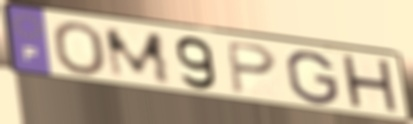9: (174, 37, 218, 92)
G: (283, 49, 342, 107)
H: (339, 52, 403, 118)
M: (101, 27, 175, 87)
O: (49, 21, 109, 78)
P: (224, 39, 280, 96)
